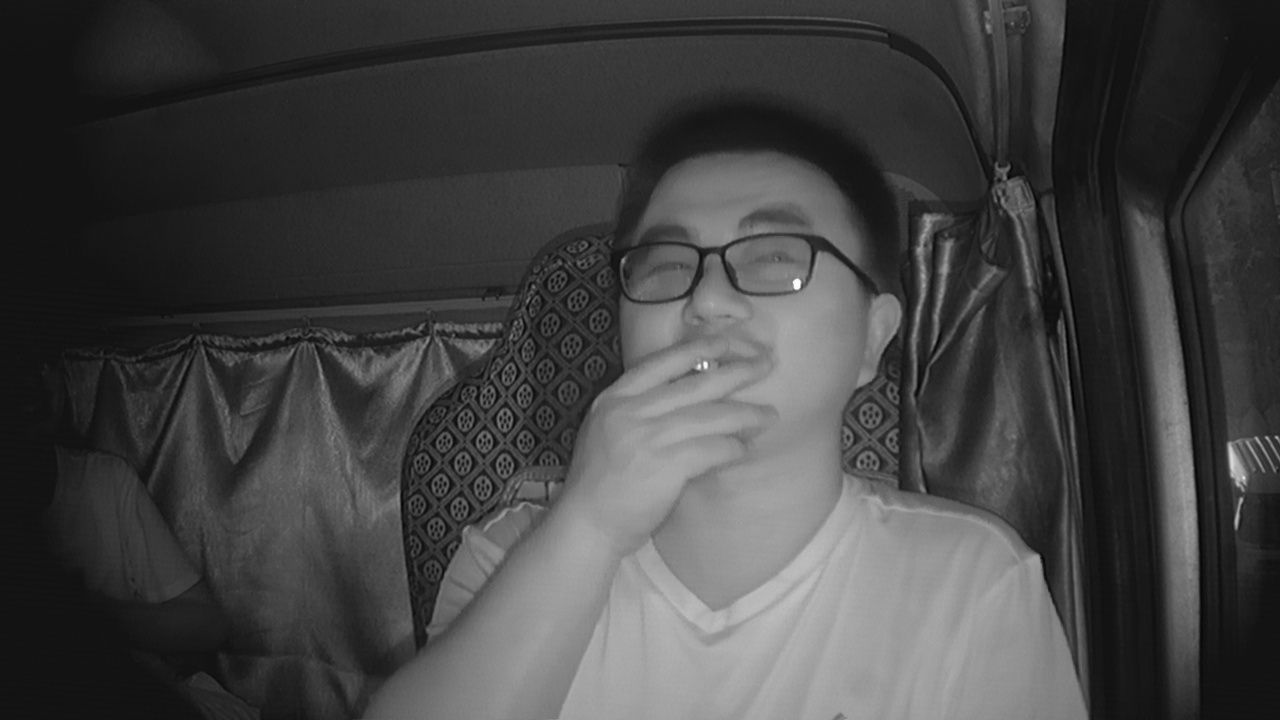hand: (624, 337, 755, 484)
